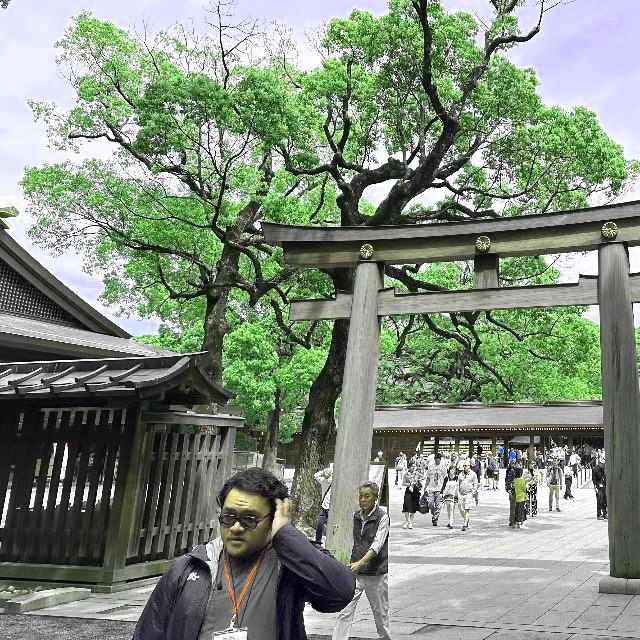Sin_Casco_Mascarrilla: (212, 466, 290, 556)
